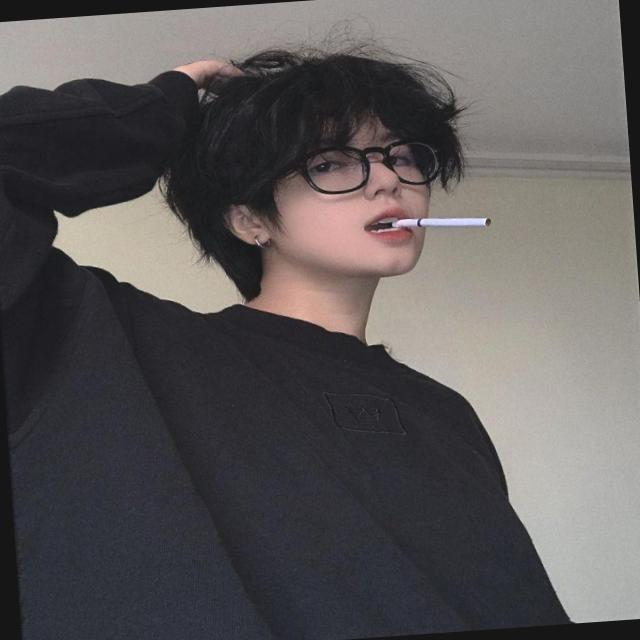cigarette: (368, 193, 530, 254)
